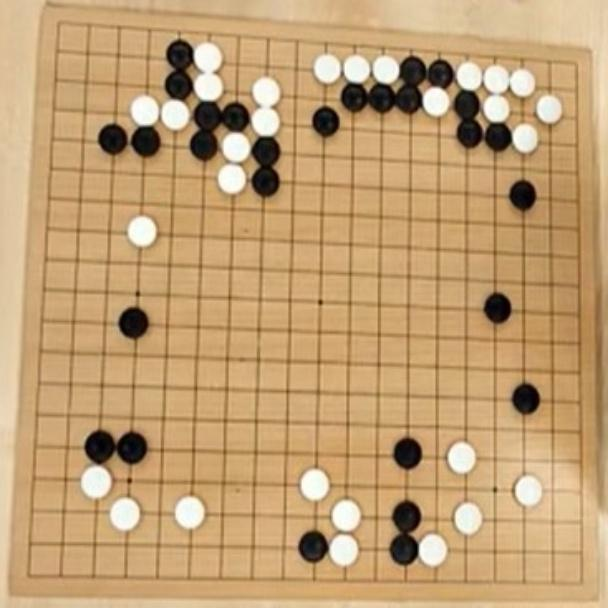corners: (10, 552, 53, 596), (561, 562, 593, 603), (45, 0, 74, 45), (558, 46, 593, 82)
